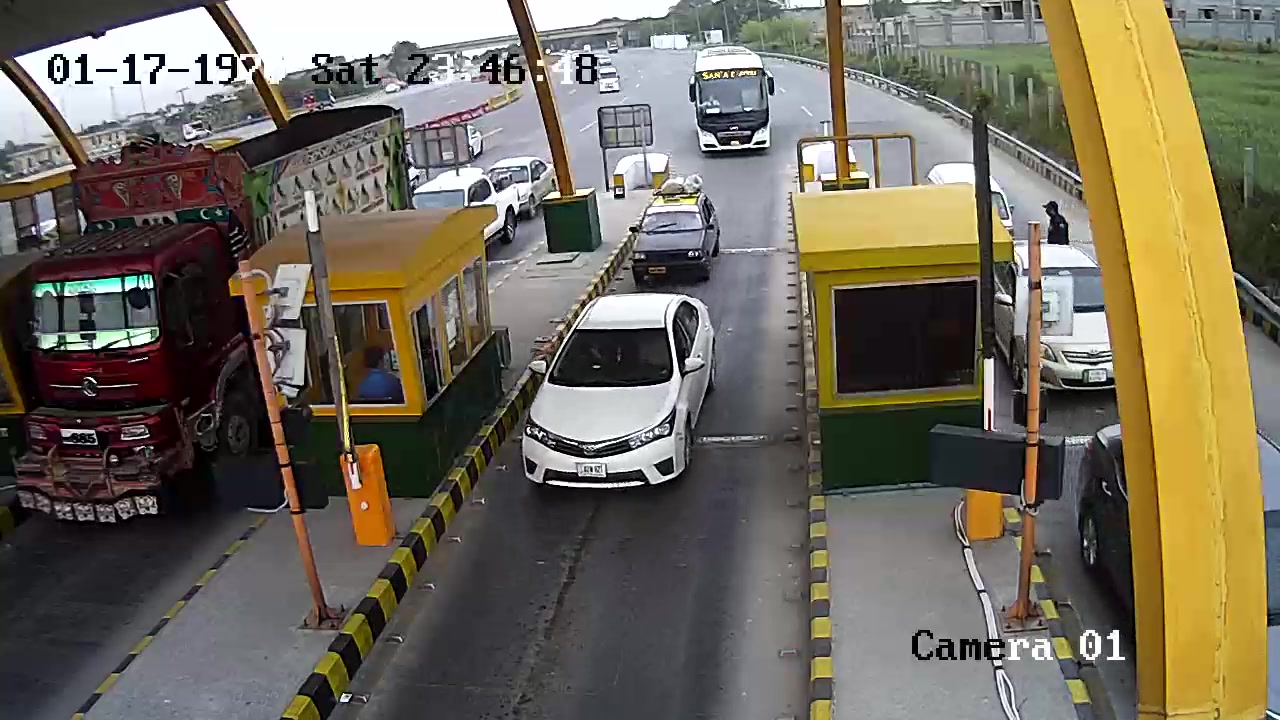F1: (519, 292, 727, 504)
